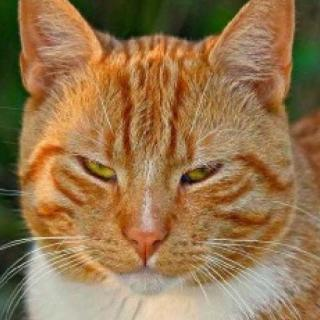cat: (17, 0, 298, 289)
nose: (120, 192, 177, 262)
